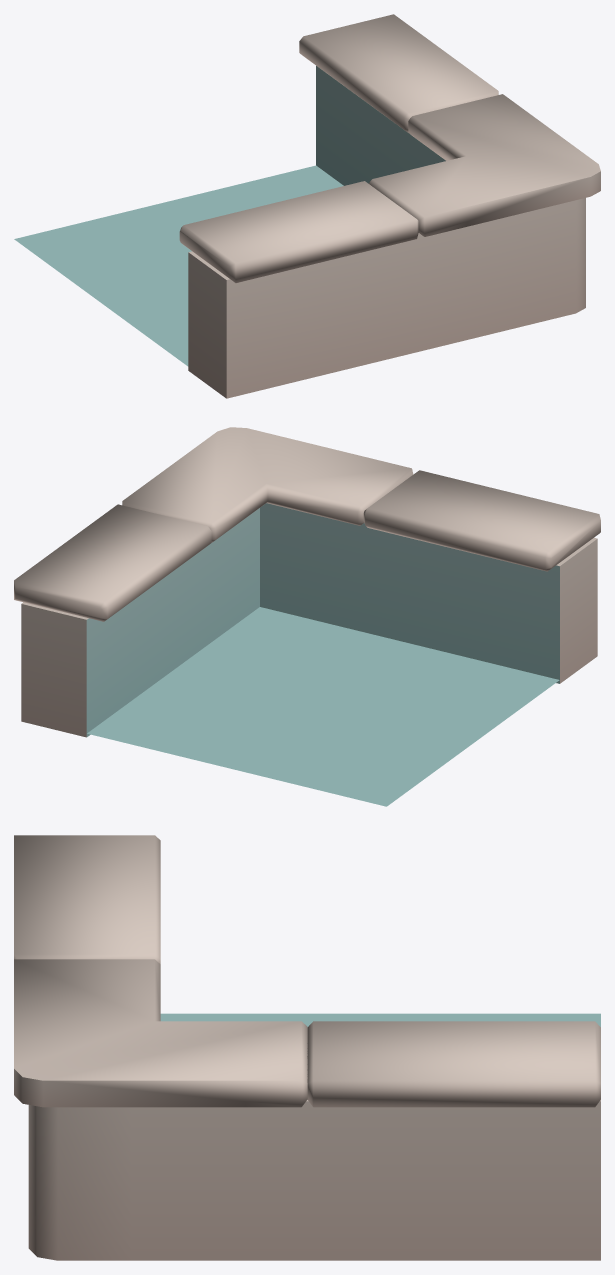
File: pool-corner-square.glb
3 views of the same model, one above another, from view 1: azimuth 30°, elevation 25°; view 2: azimuth 150°, elevation 25°; view 3: azimuth 270°, elevation 25° (orthographic). The views are drawn at different scales.
Visible parts, largest first — view 1: pool-corner-square; view 2: pool-corner-square; view 3: pool-corner-square.
Part boxes in pixels (box(x1,y1,x2,y2)): pool-corner-square: box(14, 14, 600, 398); pool-corner-square: box(14, 427, 600, 806); pool-corner-square: box(14, 835, 600, 1260).
Size of the model in its own units: 1 by 0.35 by 1.
